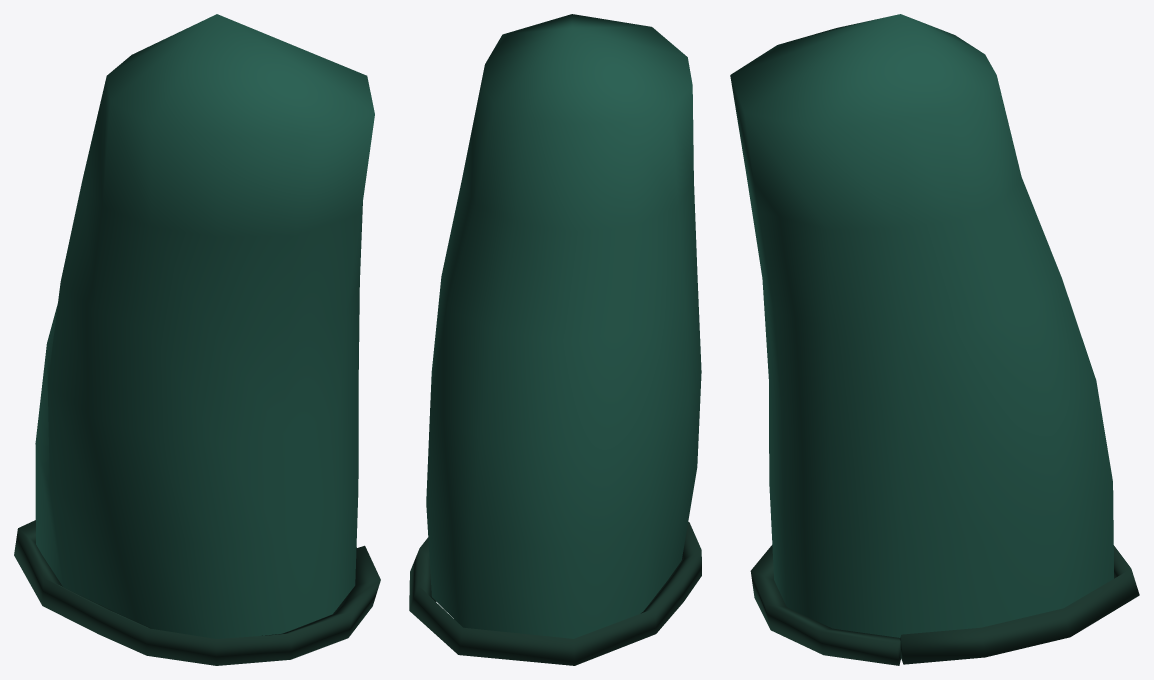
File: vortex_armor_boot.L.glb
3 renders of one model, left to right at view 1: azimuth 30°, elevation 25°; view 2: azimuth 150°, elevation 25°; view 3: azimuth 270°, elevation 25°, orthographic. The views are drawn at different scales.
Parts seen in each view (by area): view 1: vortex_armor_boot.L; view 2: vortex_armor_boot.L; view 3: vortex_armor_boot.L.
Boxes of the visible parts, left/top/right/bottom form: vortex_armor_boot.L: left=14, top=14, right=380, bottom=665; vortex_armor_boot.L: left=409, top=14, right=701, bottom=665; vortex_armor_boot.L: left=730, top=14, right=1139, bottom=665.
Bounding box in the file's own units: 0.1461 × 0.2958 × 0.1877.
